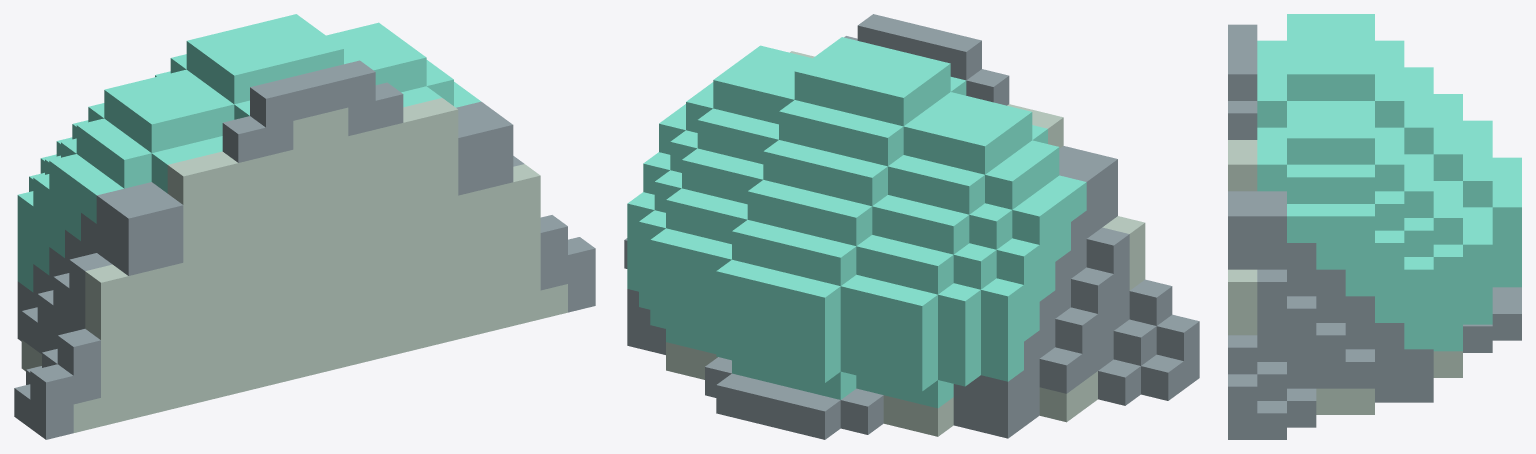
File: Ilumination-1.obj
3 renders of one model, left to right at view 1: azimuth 30°, elevation 25°; view 2: azimuth 150°, elevation 25°; view 3: azimuth 270°, elevation 25°, orthographic. The views are drawn at different scales.
Bounding box in the file's own units: 2 × 1 × 1.
1 material, 1 textured.
